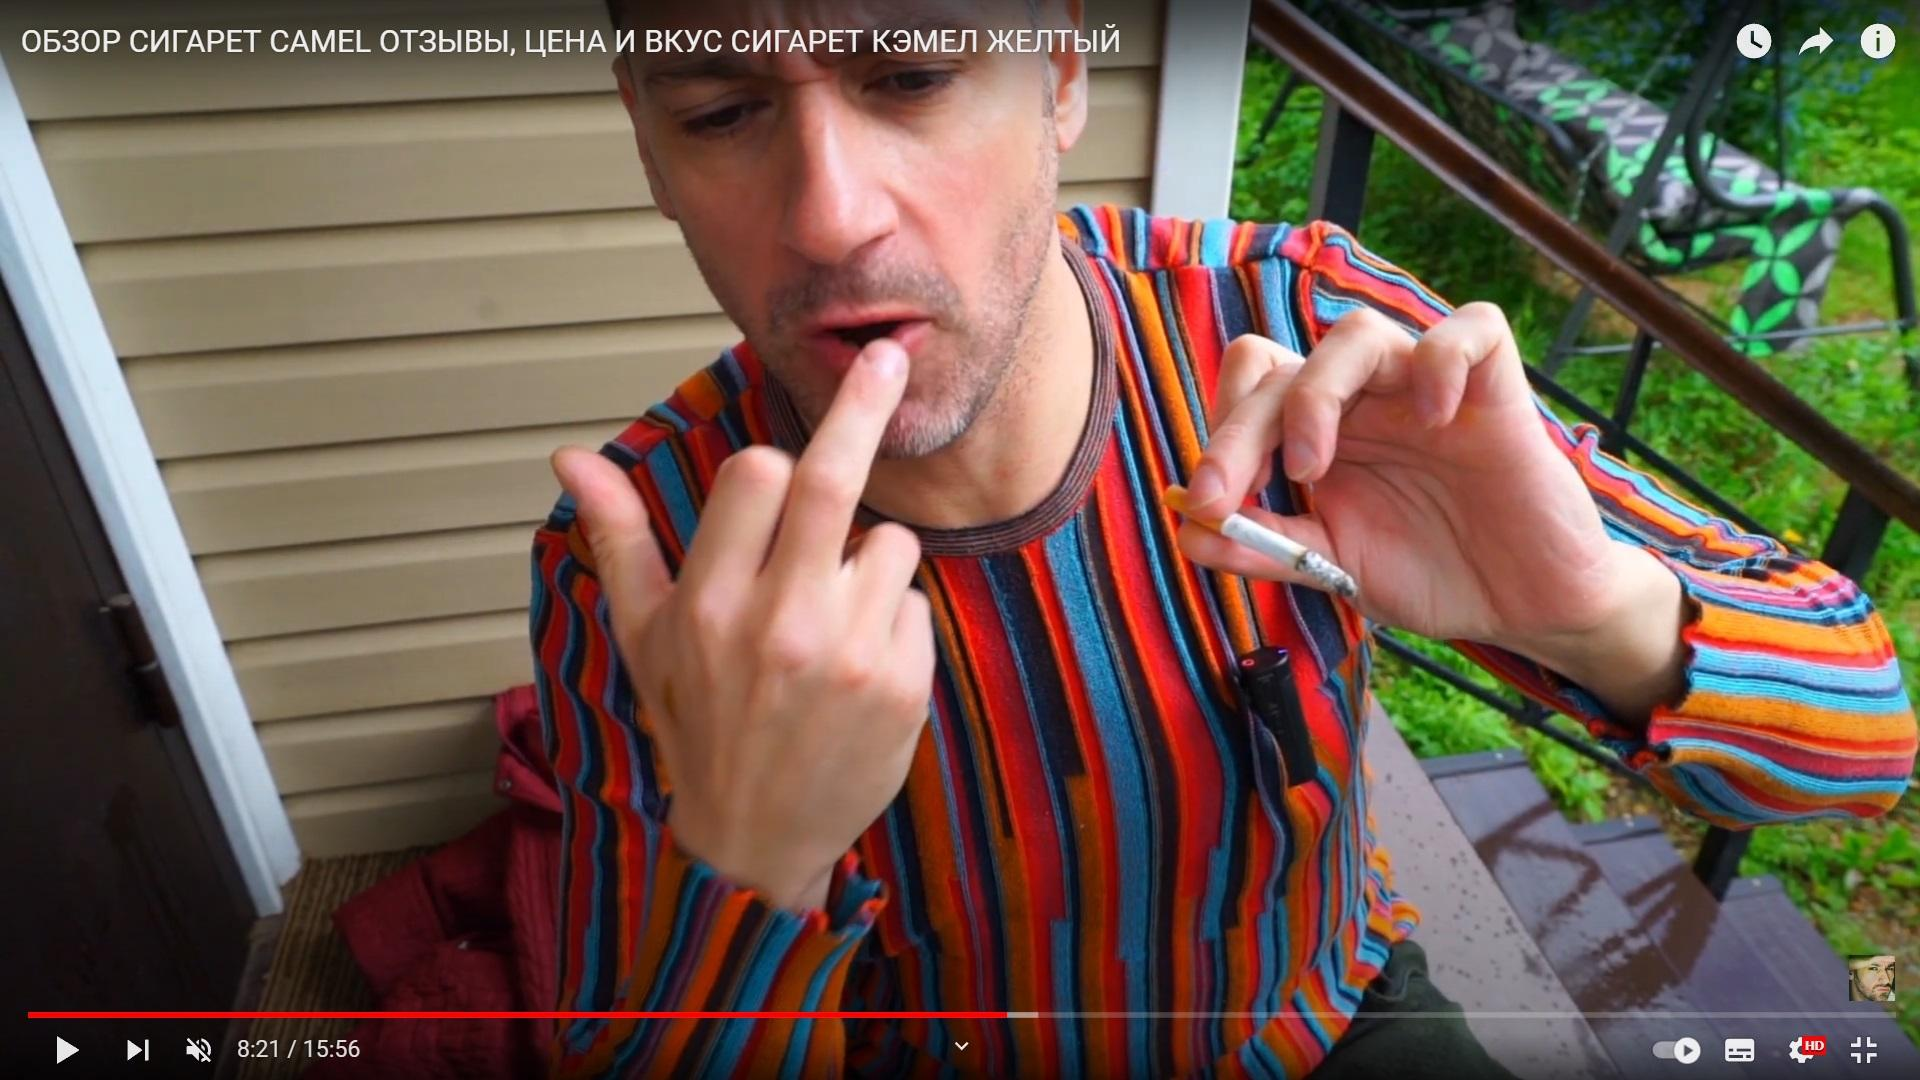cigarette: (1162, 484, 1357, 596)
